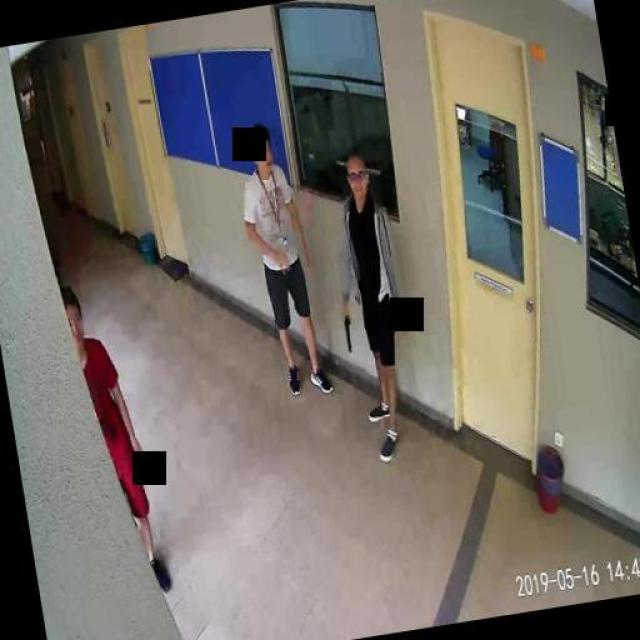gun: (340, 308, 354, 350)
